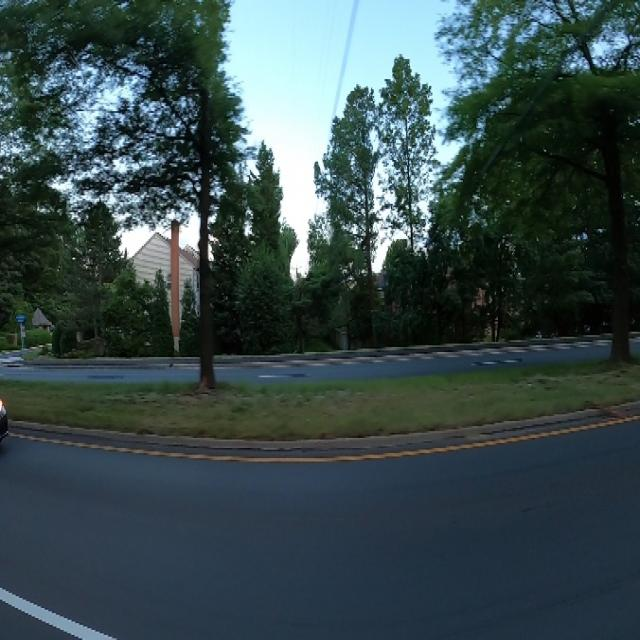cars: (0, 387, 8, 448)
